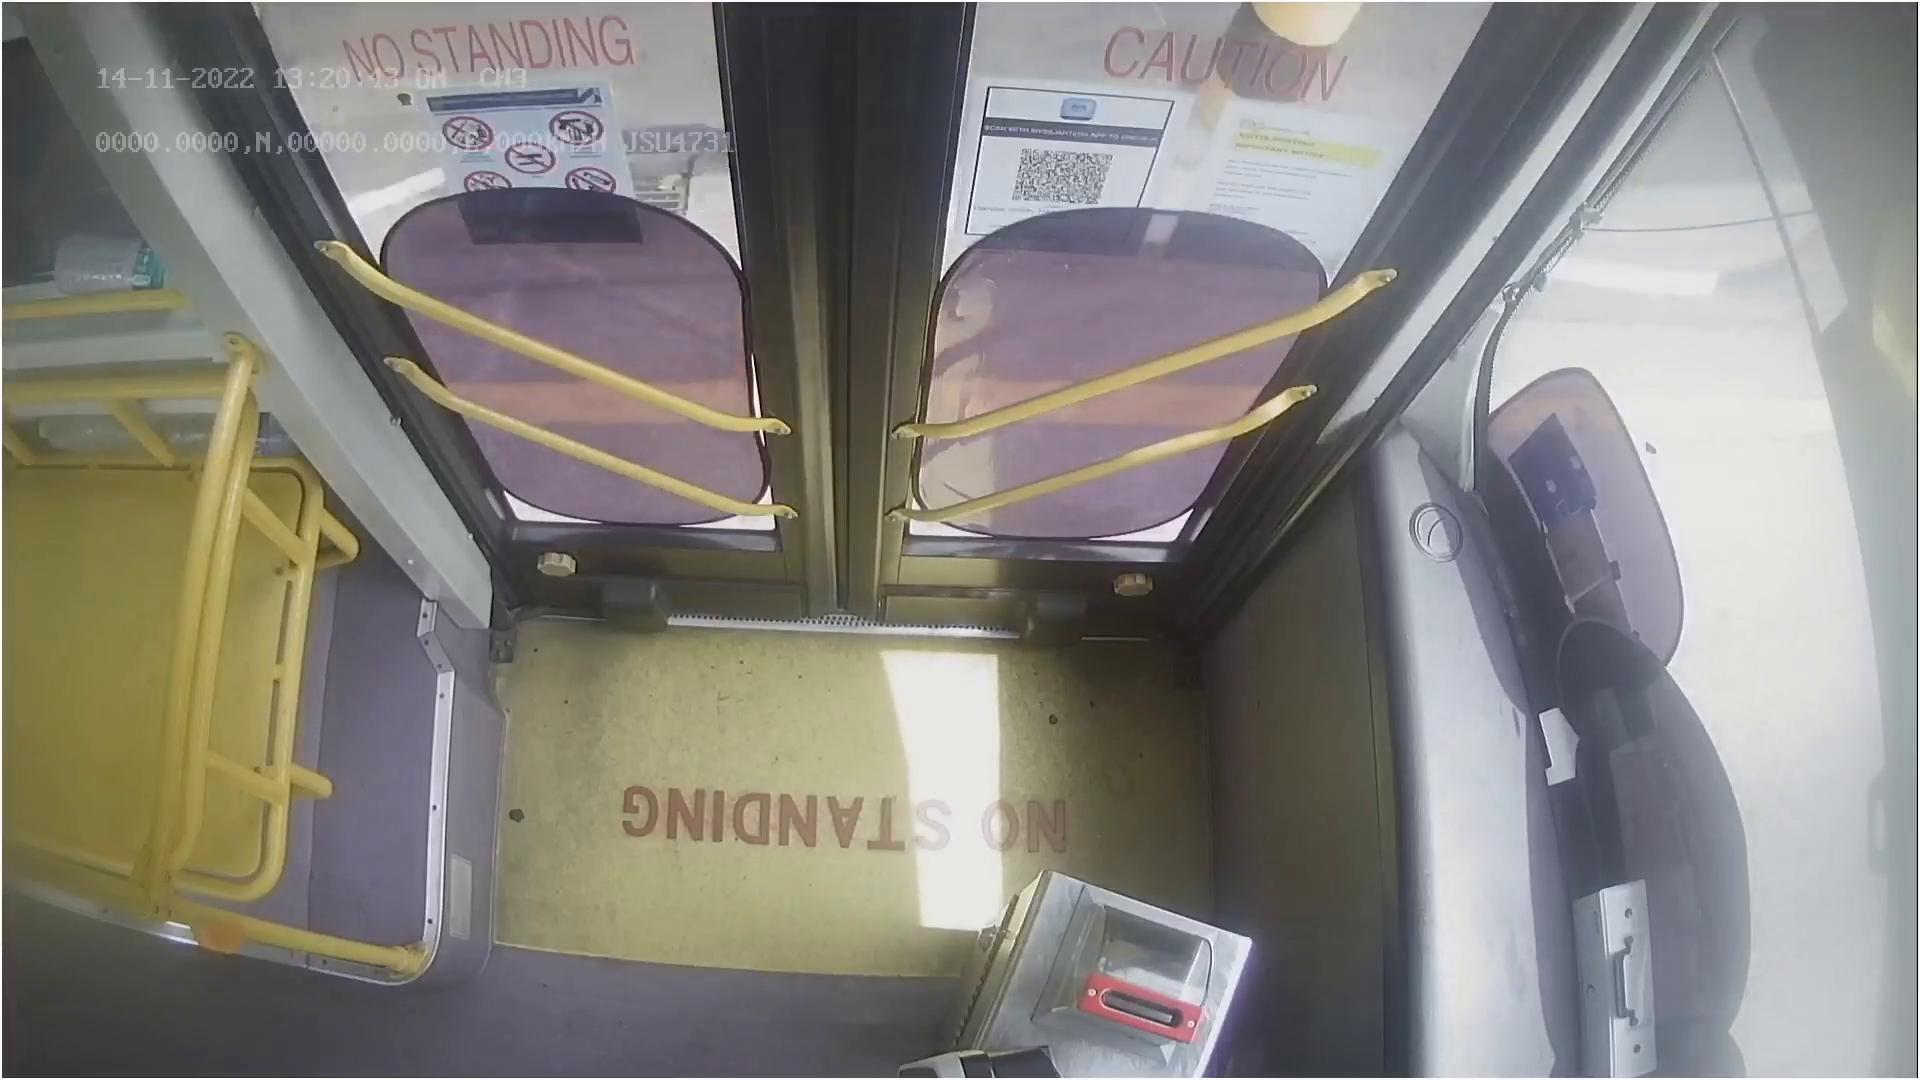close: (284, 0, 1453, 148)
